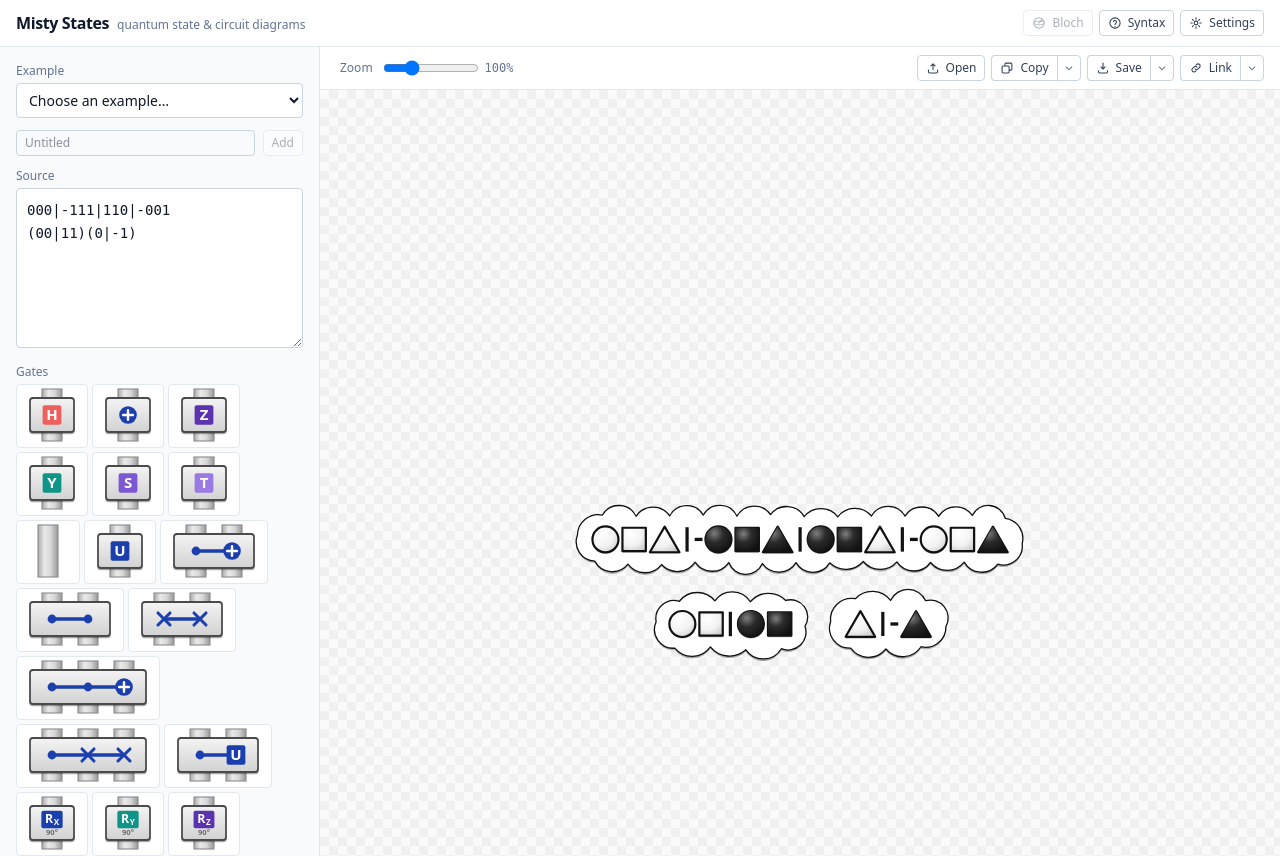
Test: App › shows an error but keeps the last good drawing on screen
Replace the text in the text box labelled "Source" with "00|11" at (160, 268), box [16, 188, 303, 348]
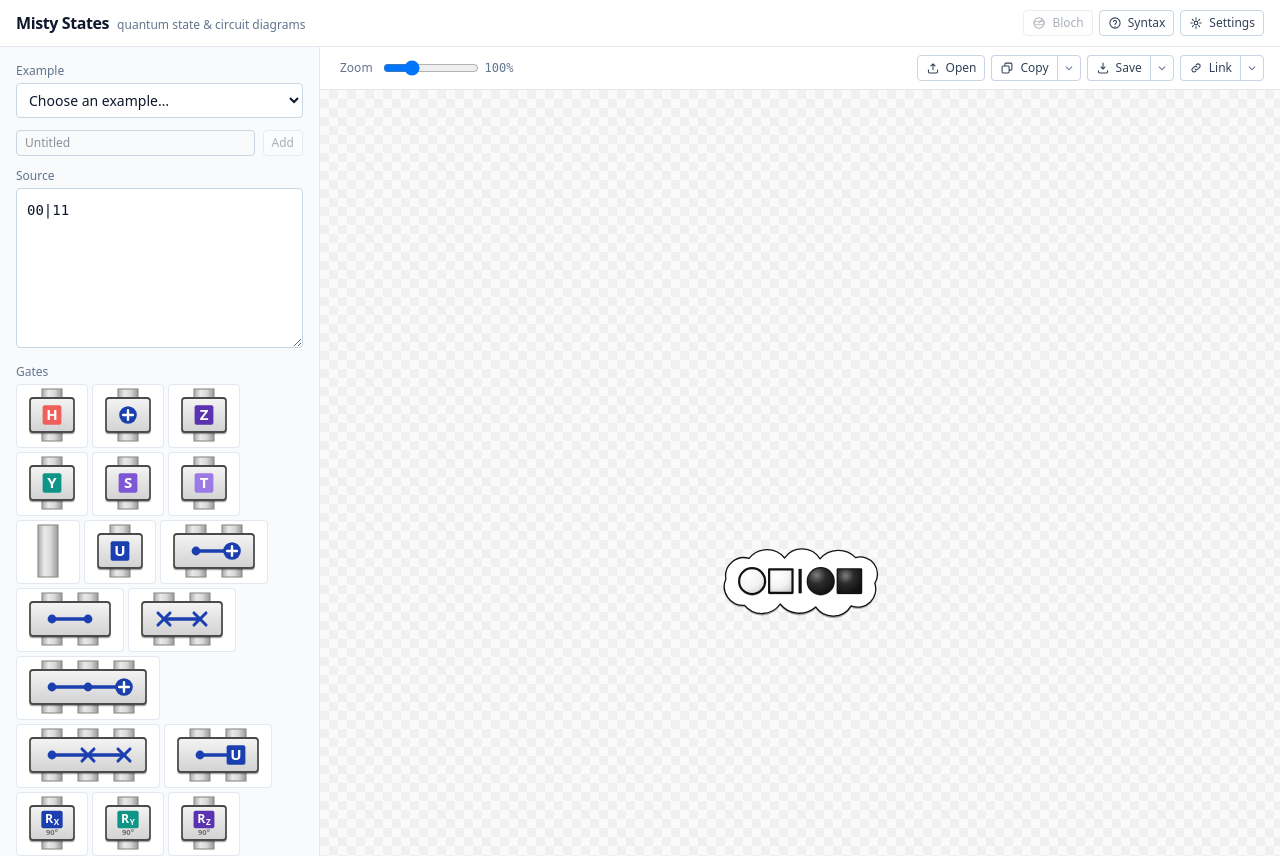
Replace the text in the text box labelled "Source" with "(0|1" at (160, 268), box [16, 188, 303, 348]
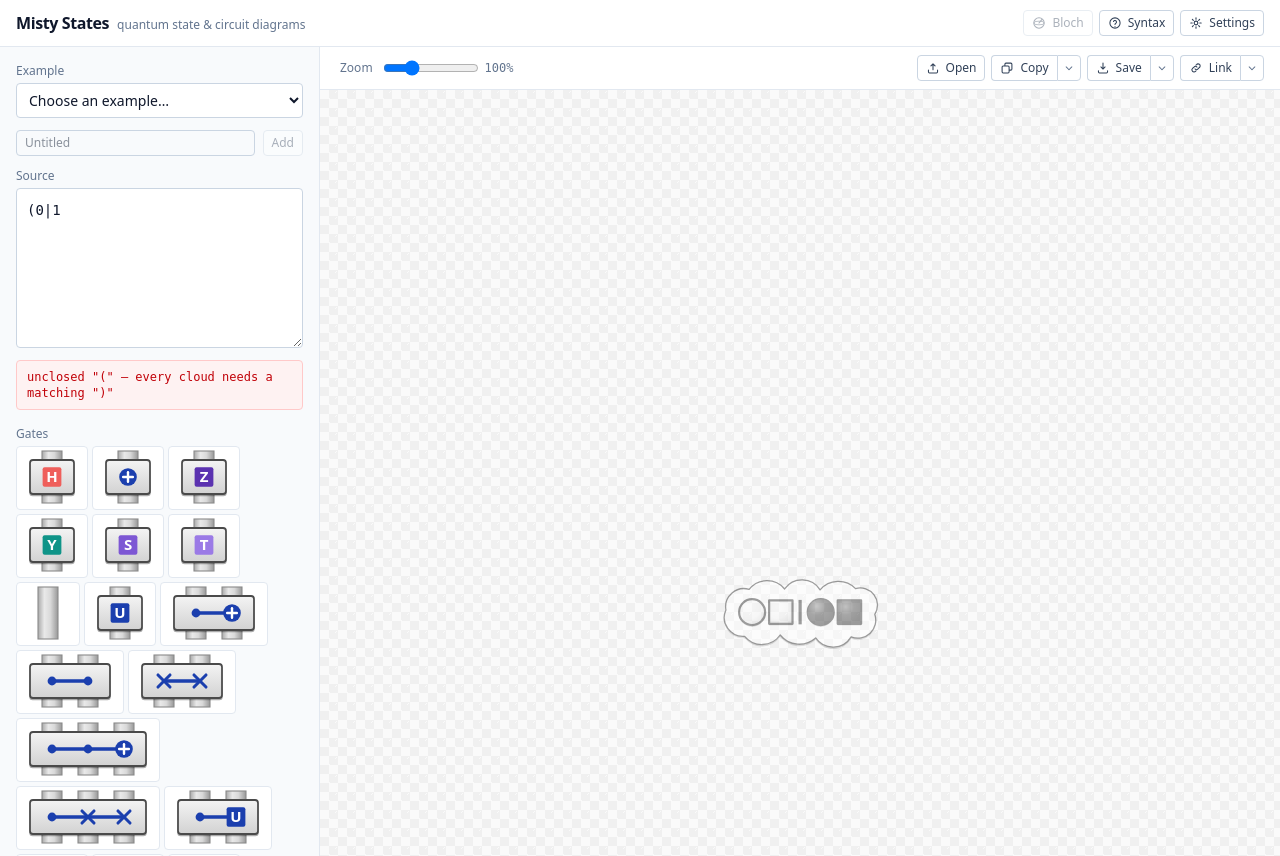
Expected: the text "unclosed" is shown, [27, 370, 273, 400]
